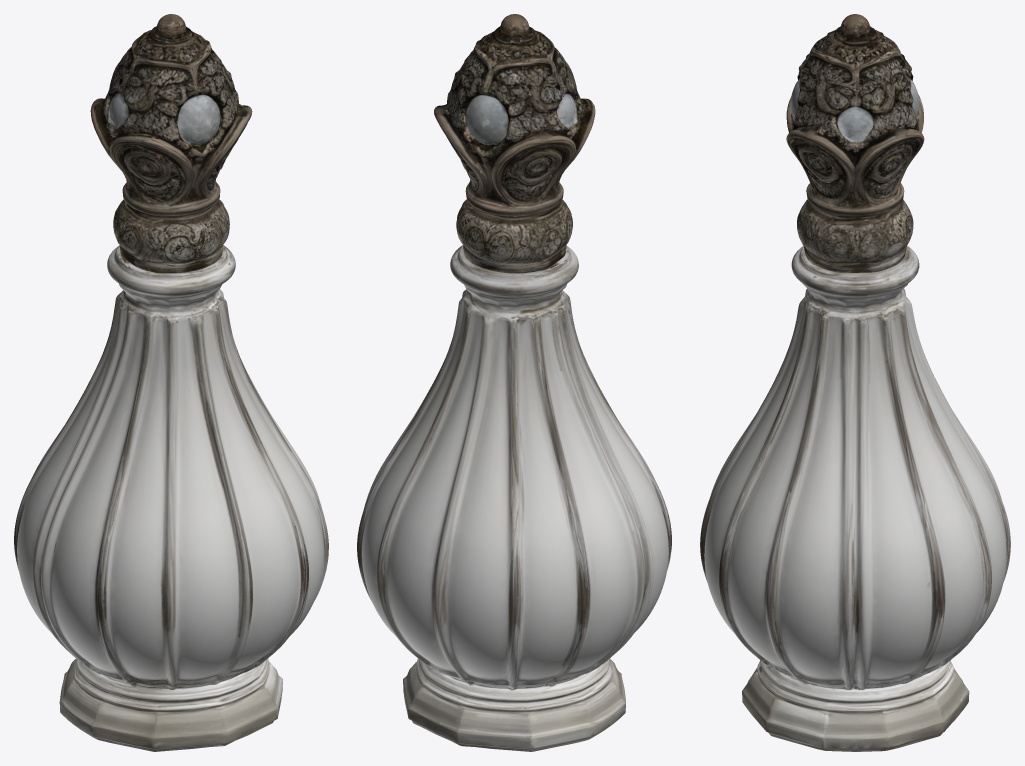
Rendered from perfume.glb.
3 renders of one model, left to right at view 1: azimuth 30°, elevation 25°; view 2: azimuth 150°, elevation 25°; view 3: azimuth 270°, elevation 25°, orthographic.
Parts seen in each view (by area): view 1: node_0; view 2: node_0; view 3: node_0.
Part boxes in pixels (x1,y1,x2,y2): node_0: [14, 14, 328, 751]; node_0: [357, 14, 671, 751]; node_0: [700, 14, 1010, 751].
Size of the model in its own units: 0.4676 by 1.15 by 0.4702.
Materials: 1 (1 with a texture image).
